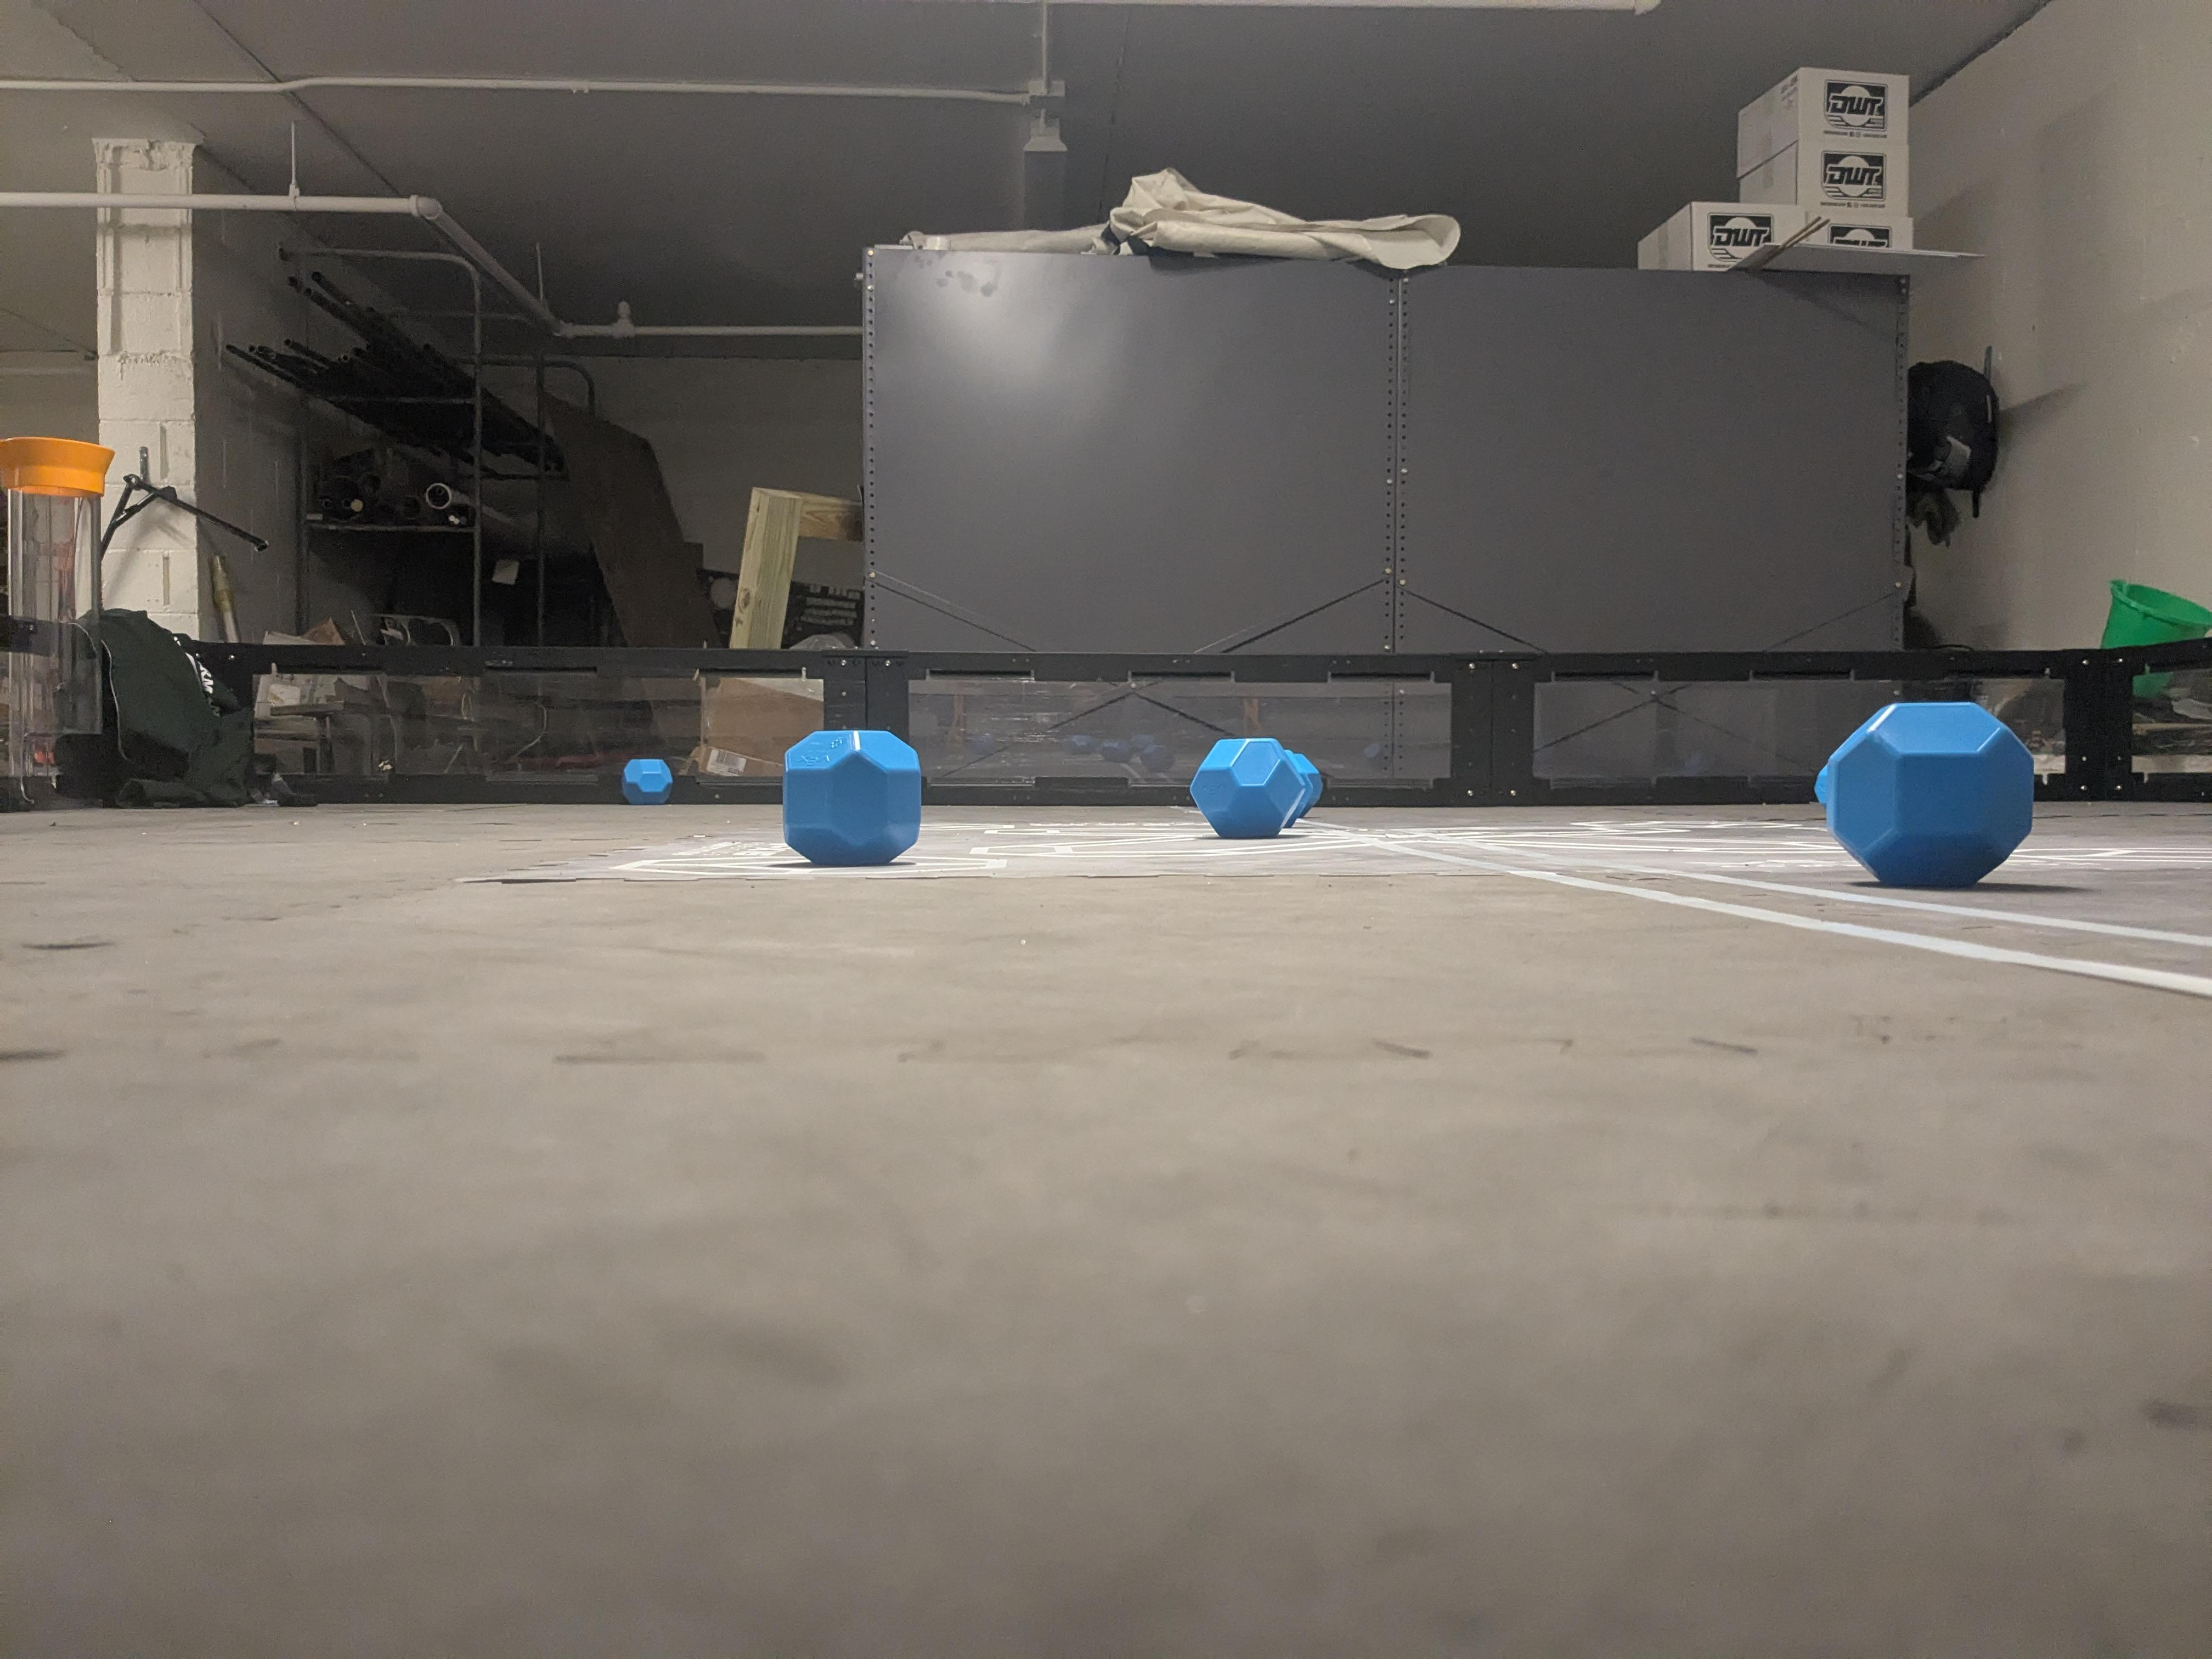Vex-Pieces-BLUE: (1818, 699, 2031, 889), (773, 730, 921, 868), (1191, 739, 1322, 836), (622, 758, 672, 805)
